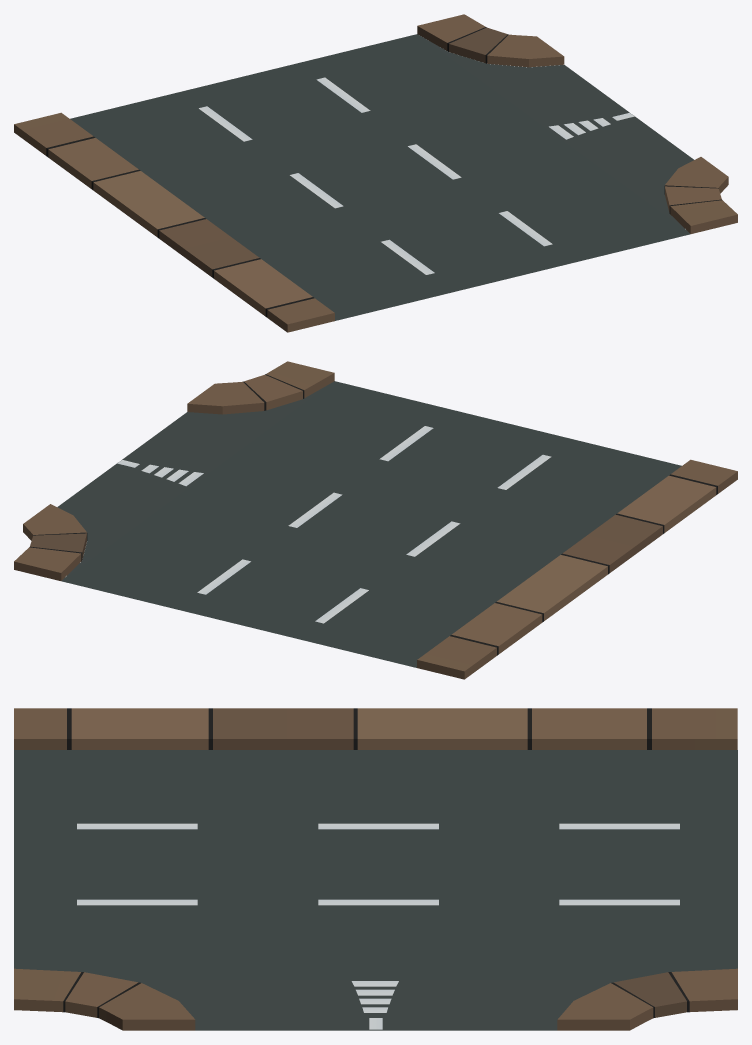
The model's file is Road_1_310.fbx.
3 renders of one model, top to bottom at view 1: azimuth 30°, elevation 25°; view 2: azimuth 150°, elevation 25°; view 3: azimuth 270°, elevation 25°, orthographic. The views are drawn at different scales.
Parts seen in each view (by area): view 1: Road_1_310; view 2: Road_1_310; view 3: Road_1_310.
Part boxes in pixels (bbox=[...]): Road_1_310: bbox=[14, 14, 737, 332]; Road_1_310: bbox=[14, 361, 737, 679]; Road_1_310: bbox=[14, 708, 737, 1030].
Size of the model in its own units: 1832 by 30 by 1800.
